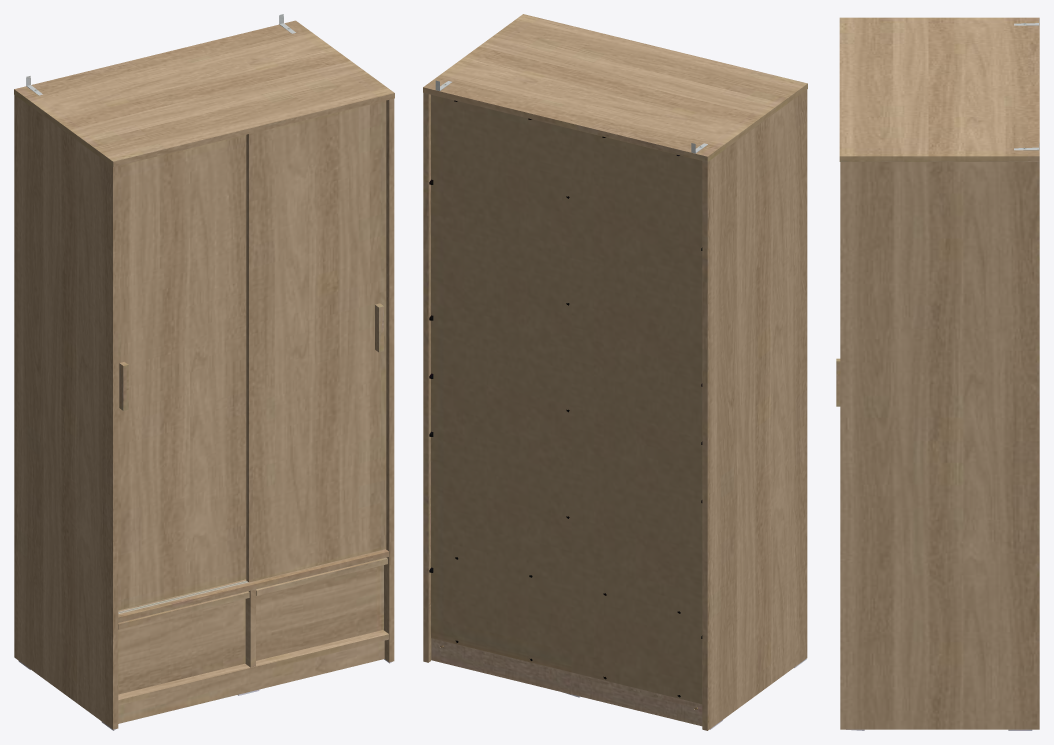
File: 13 - ANKARUDDEN Wardrobe with sliding doors - oak effect 98x60x190 cm.glb
3 views of the same model, side by side, from view 1: azimuth 30°, elevation 25°; view 2: azimuth 150°, elevation 25°; view 3: azimuth 270°, elevation 25° (orthographic).
Visible parts, largest first — view 1: 50626250-ANKARUDDEN001; view 2: 50626250-ANKARUDDEN001; view 3: 50626250-ANKARUDDEN001.
Part boxes in pixels (x1,y1,x2,y2): 50626250-ANKARUDDEN001: (14, 14, 394, 730); 50626250-ANKARUDDEN001: (423, 14, 807, 730); 50626250-ANKARUDDEN001: (836, 17, 1039, 730).
Bounding box in the file's own units: 0.983 × 1.93 × 0.6095.
1 material, 1 textured.
